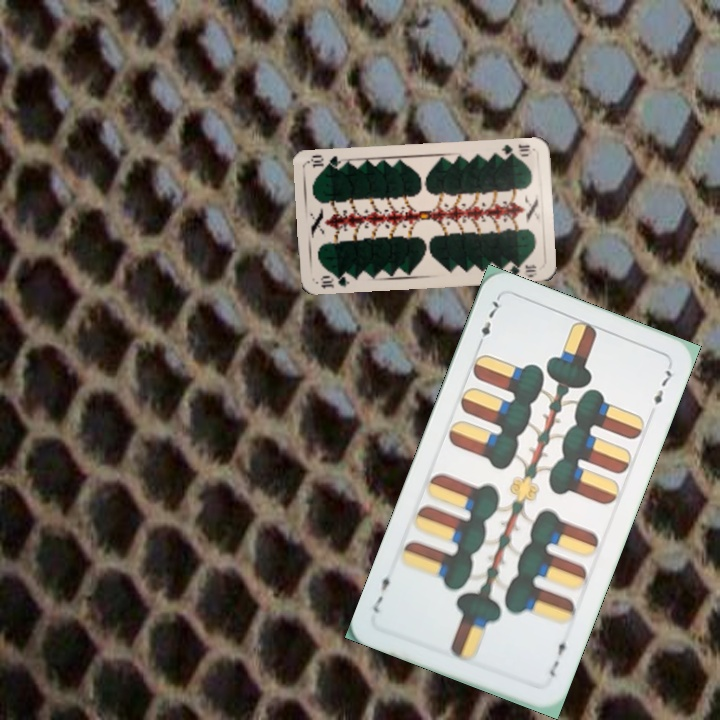E7: (472, 294, 502, 351), (545, 632, 572, 679)
G10: (317, 270, 353, 291), (498, 140, 532, 160)
